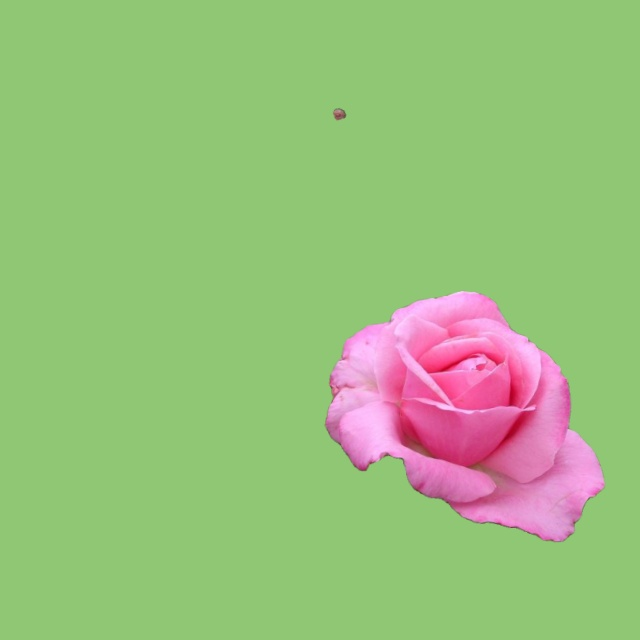rose: (325, 291, 604, 541), (333, 109, 345, 120)
